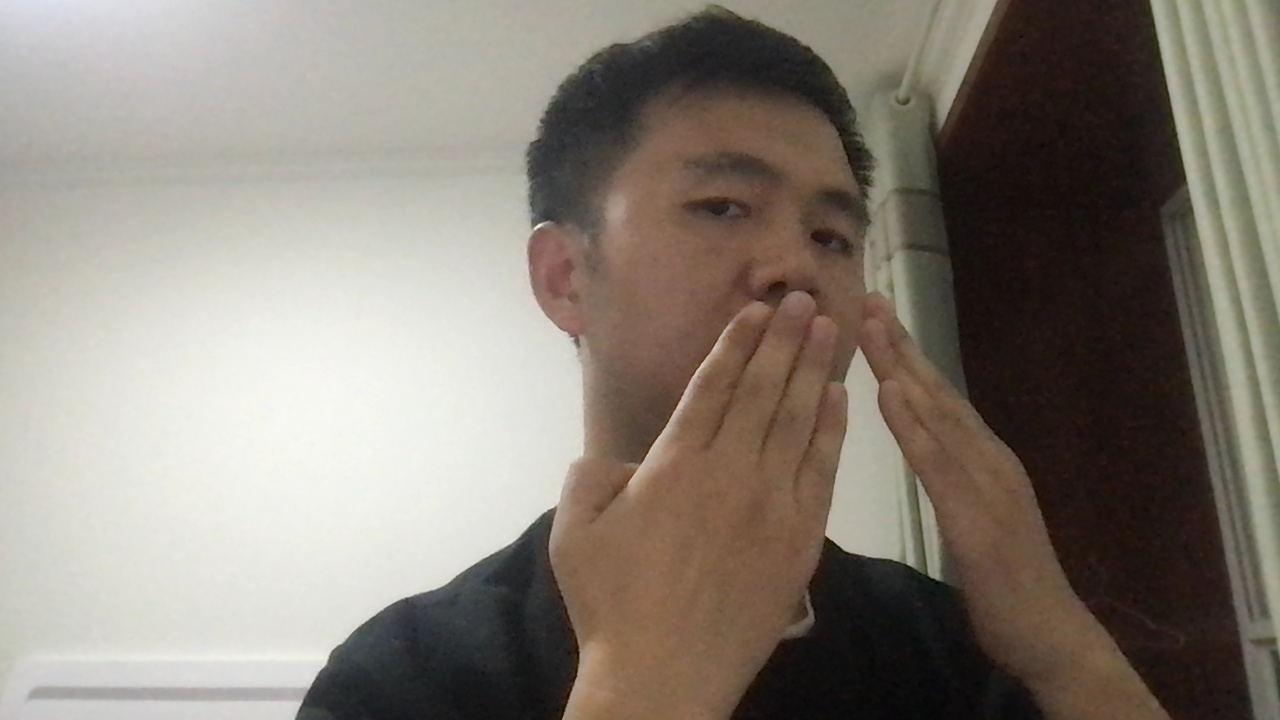thanks: (542, 292, 1105, 697)
